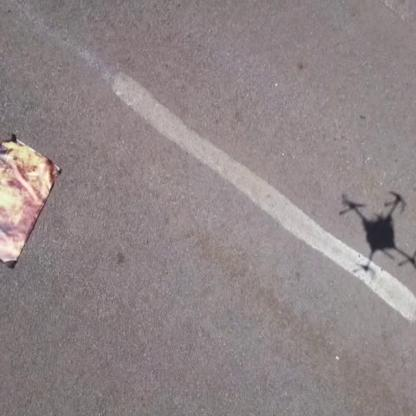fire-poster: (0, 131, 62, 269)
